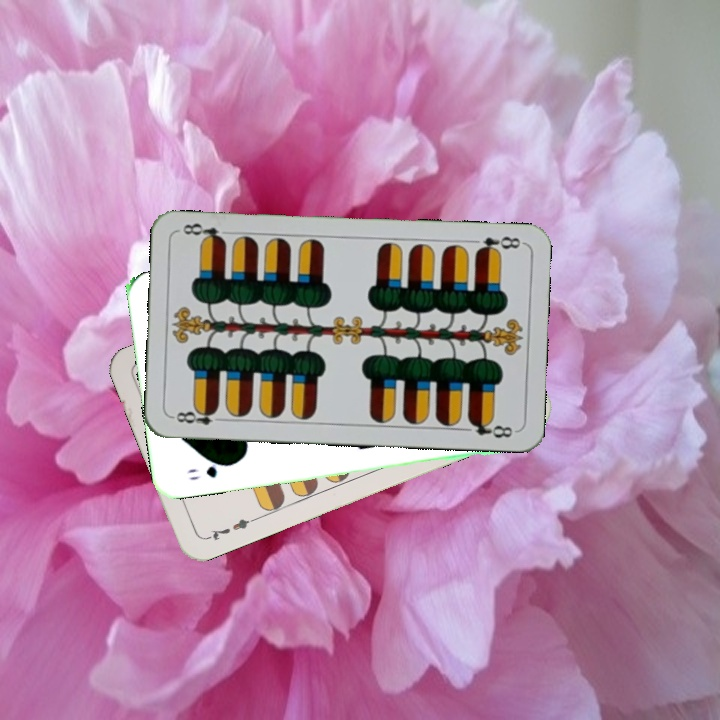E7: (201, 514, 258, 543)
E8: (169, 404, 228, 428), (471, 232, 525, 257)
GO: (183, 458, 235, 483)
